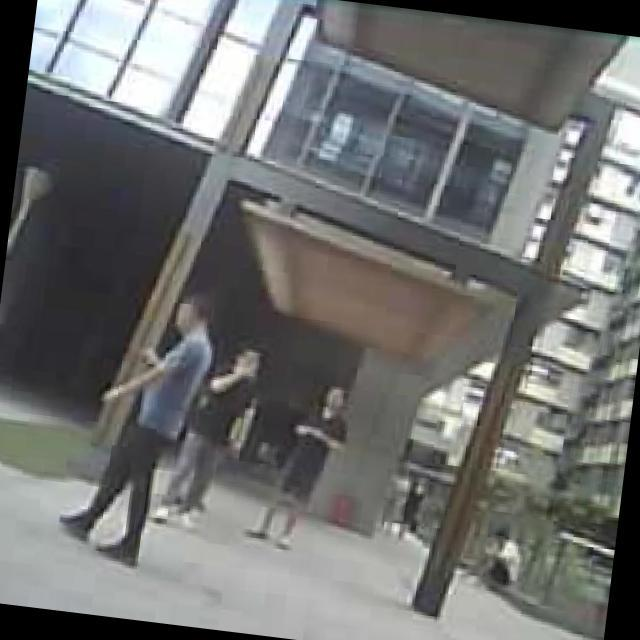person: (54, 290, 218, 570), (243, 378, 354, 554), (158, 343, 262, 528), (457, 522, 526, 591), (384, 459, 414, 531), (404, 474, 430, 540)
